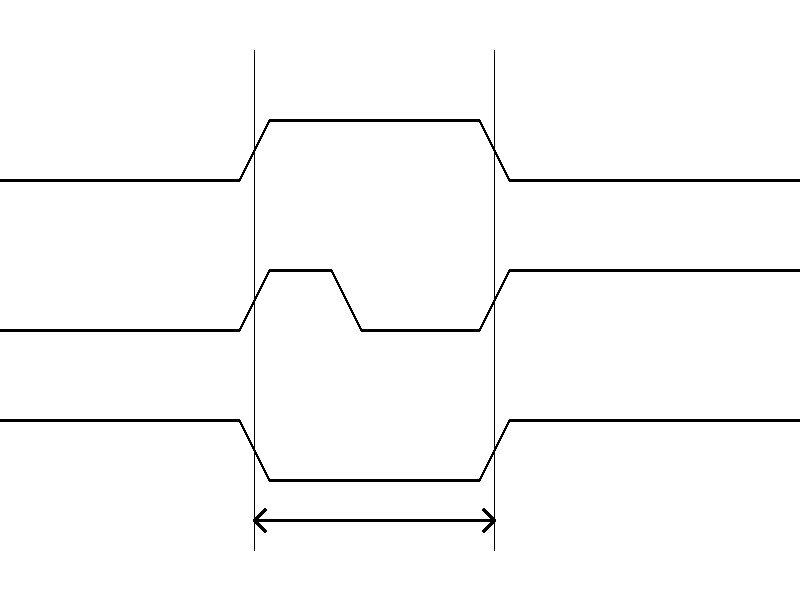double_arrow: (254, 505, 494, 535)
